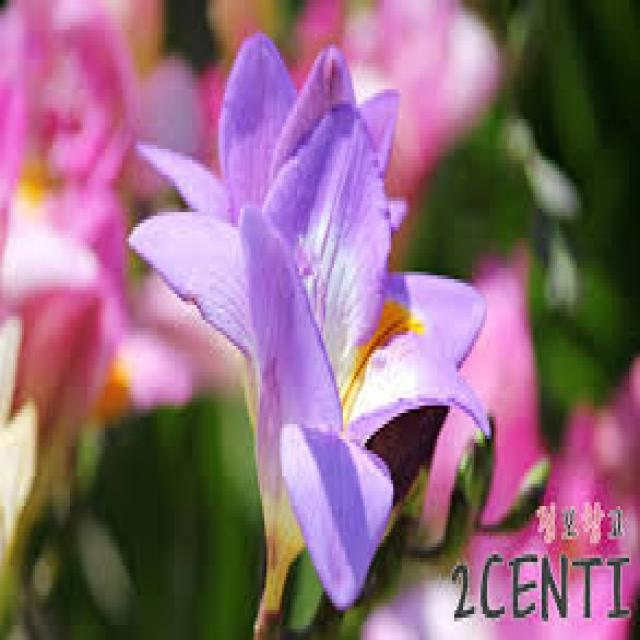freesia: (110, 17, 508, 600)
